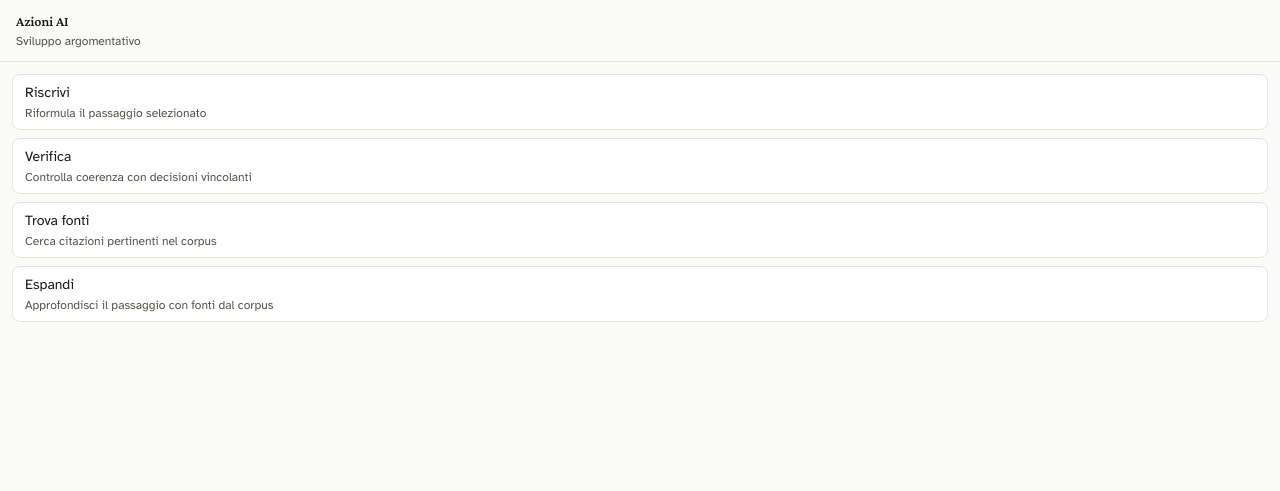
Test: WritingAiPanel › streams action output and adds proposal on Applica without mutating chapter
Click the button "Riscrivi Riformula il passaggio selezionato".
click(47, 92)  # box left=12, top=74, right=1268, bottom=130
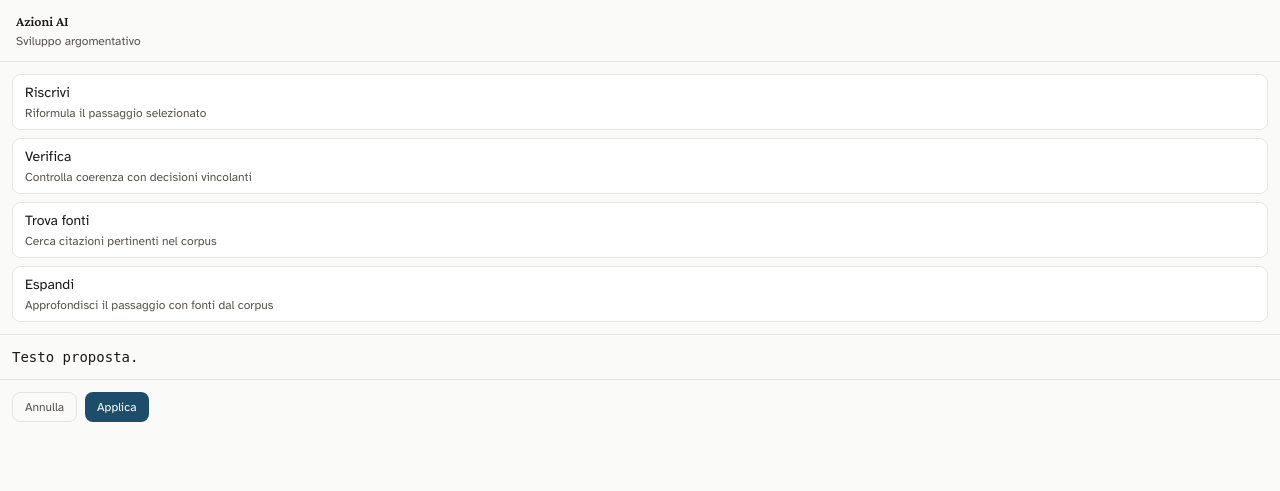
Check: the text with test id "ai-stream-output" reads "Testo proposta.", box left=12, top=349, right=138, bottom=365
Click the button with test id "applica-button".
click(117, 407)  # box left=85, top=392, right=148, bottom=422
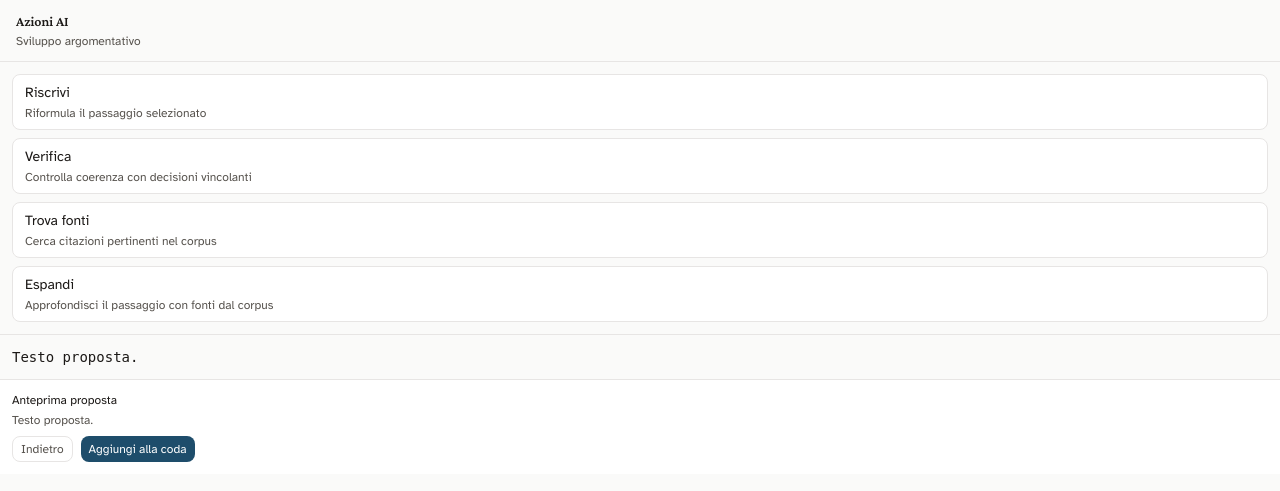
Check: the element with test id "ai-anteprima" is shown, box left=0, top=379, right=1279, bottom=474
Click the button with test id "confirm-proposal".
click(138, 449)  # box left=81, top=436, right=195, bottom=462
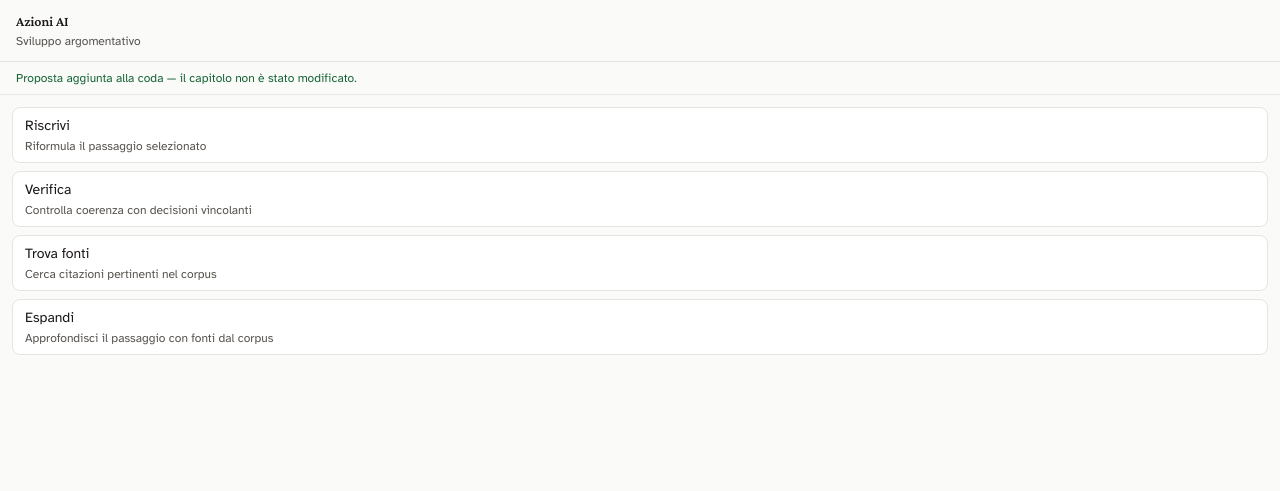
Check: the text with test id "ai-stream-output" is gone
